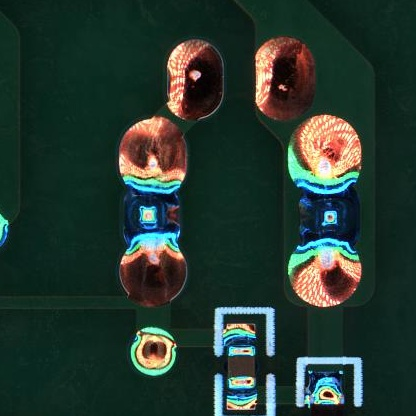spot: (293, 185, 360, 244), (122, 186, 185, 242)
